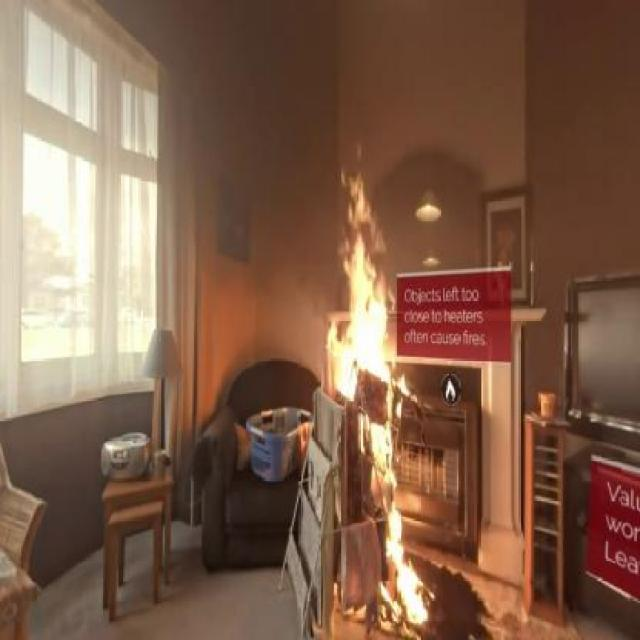smoke: (163, 374, 404, 640), (232, 270, 323, 484)
